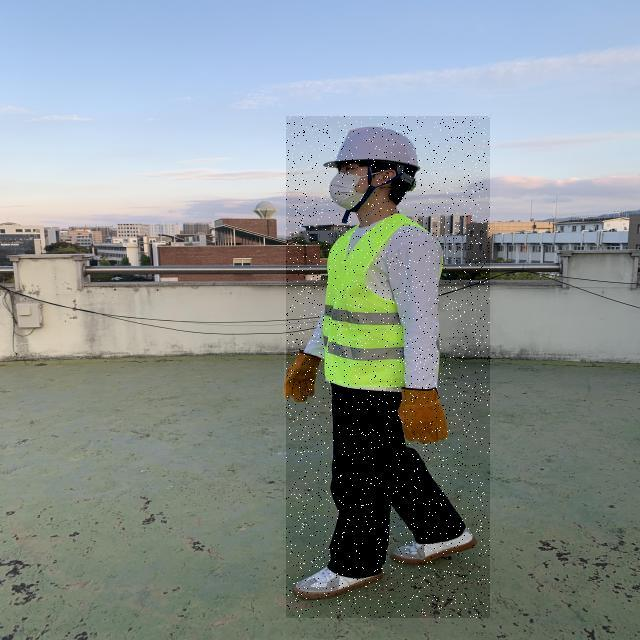Gloves: (398, 387, 449, 445), (284, 350, 322, 403)
Helmet: (322, 126, 421, 173)
Human: (286, 116, 490, 618)
Safety Boot: (390, 528, 478, 565), (291, 566, 384, 600)
Safety Vest: (324, 214, 442, 389)
